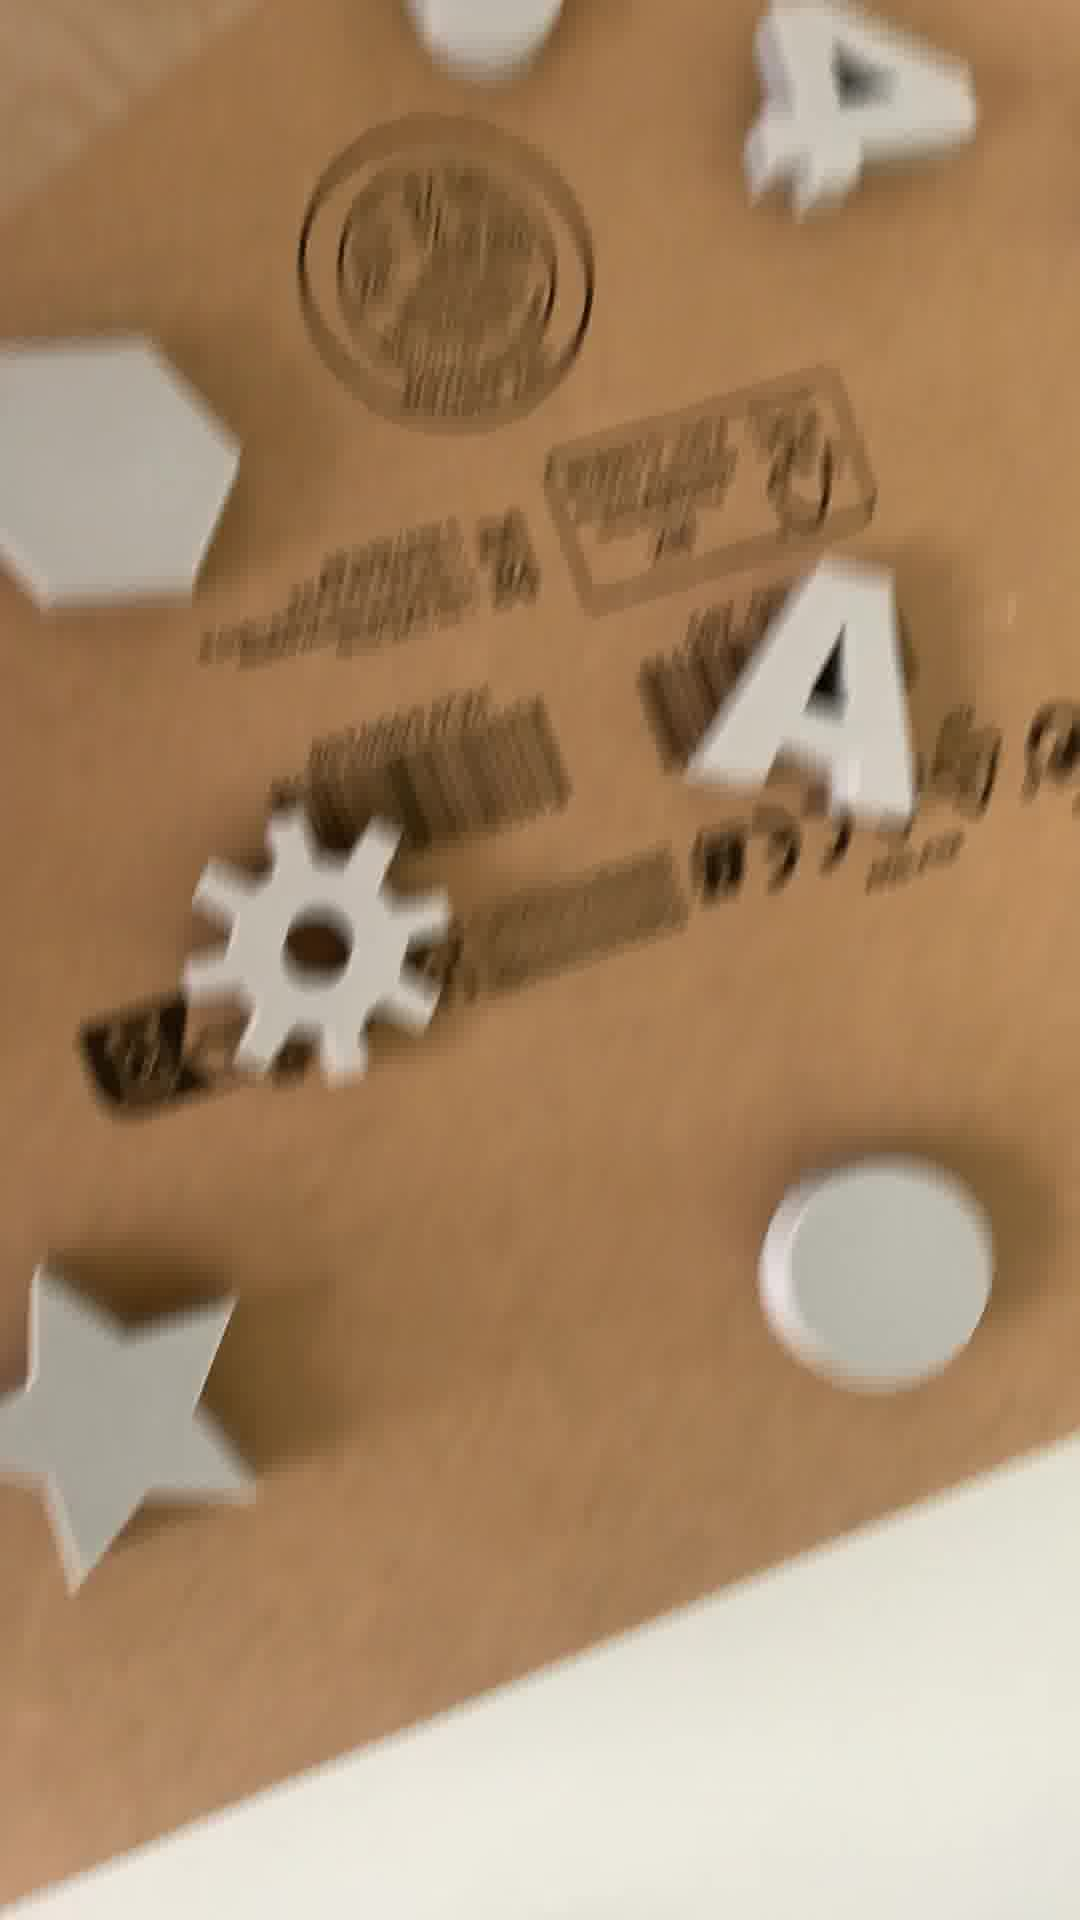Gray A-letter: (669, 558, 952, 843)
Gray circle: (746, 1145, 1000, 1400)
Gray four: (717, 8, 1000, 236)
Gray gear: (171, 803, 484, 1106)
Gray hexagon: (1, 342, 276, 626)
Gray star: (1, 1259, 261, 1585)
